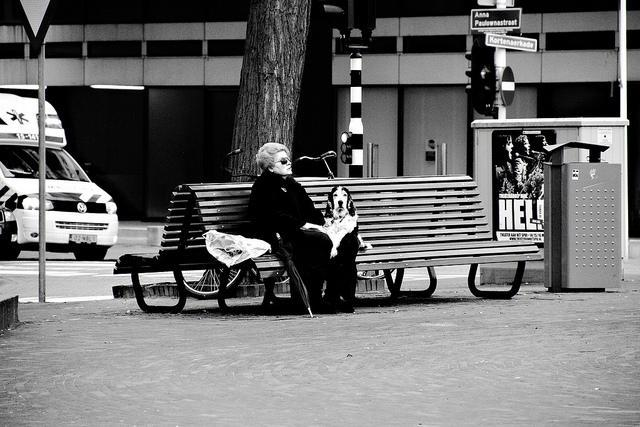bicycle: (182, 267, 248, 300)
truck: (0, 93, 121, 261)
